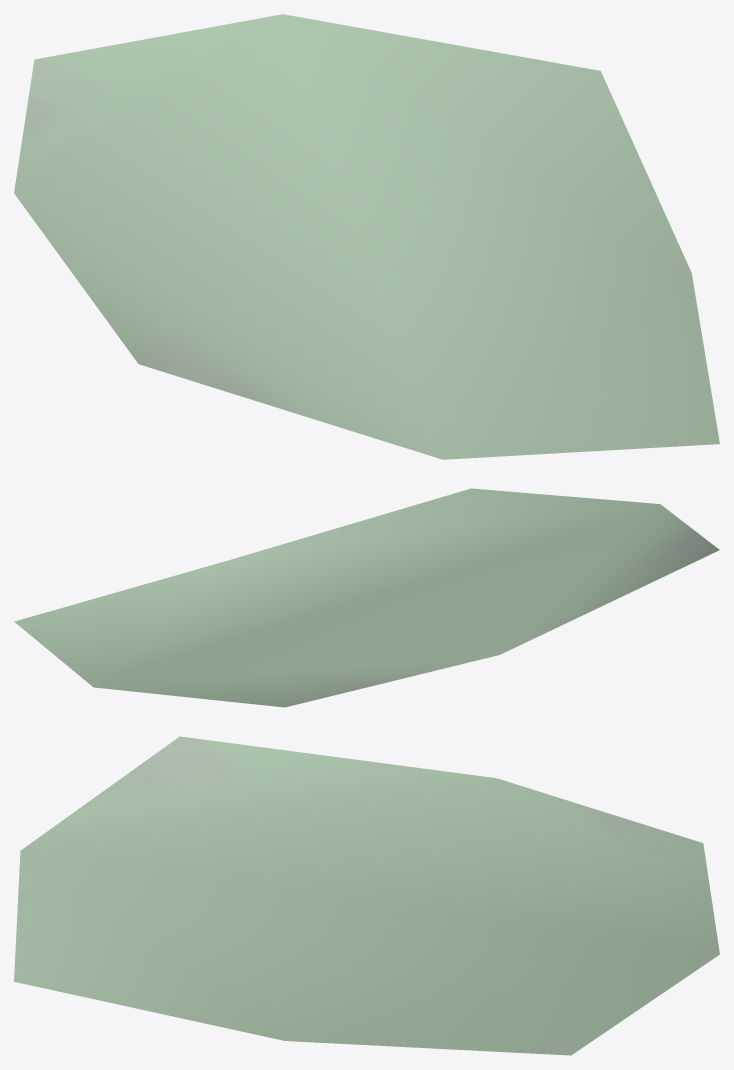
File: TROLLHOLE02_HOLECAP136.fbx
3 views of the same model, one above another, from view 1: azimuth 30°, elevation 25°; view 2: azimuth 150°, elevation 25°; view 3: azimuth 270°, elevation 25° (orthographic). The views are drawn at different scales.
Parts seen in each view (by area): view 1: TROLLHOLE02_HOLECAP136; view 2: TROLLHOLE02_HOLECAP136; view 3: TROLLHOLE02_HOLECAP136.
Boxes of the visible parts, left/top/right/bottom form: TROLLHOLE02_HOLECAP136: left=14, top=14, right=719, bottom=459; TROLLHOLE02_HOLECAP136: left=14, top=488, right=719, bottom=707; TROLLHOLE02_HOLECAP136: left=14, top=736, right=719, bottom=1055.
Size of the model in its own units: 29871 by 4466 by 34392.
Materials: 1 (1 with a texture image).
